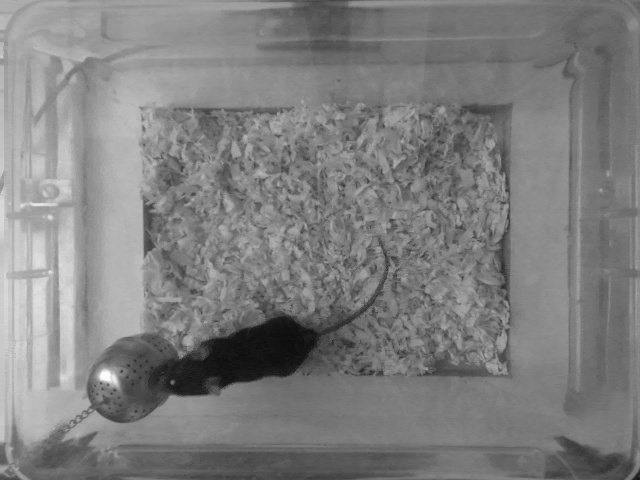mice: (164, 236, 390, 402)
